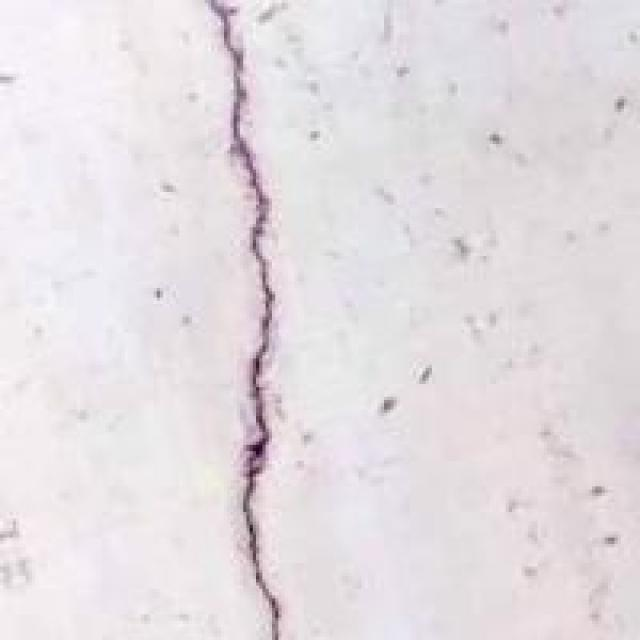crack: (141, 0, 371, 637)
